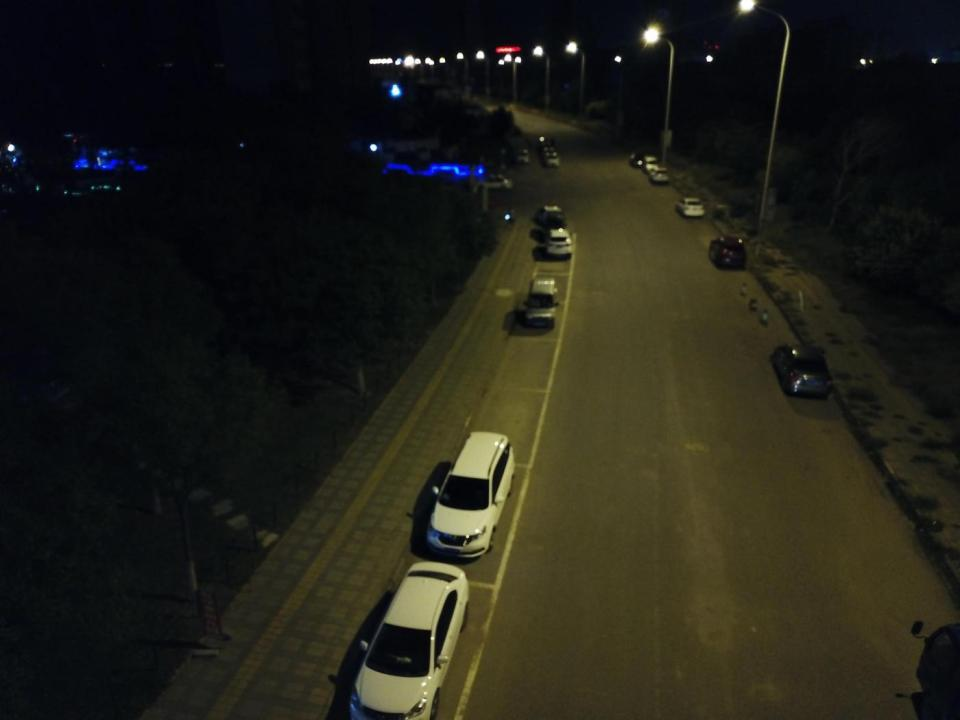car: (338, 552, 469, 720), (422, 428, 518, 561), (769, 340, 831, 401), (710, 232, 748, 272), (543, 222, 574, 256), (676, 192, 704, 219), (484, 170, 518, 191), (533, 204, 565, 225), (541, 211, 568, 233), (628, 151, 658, 170), (537, 135, 559, 156), (640, 154, 659, 174), (649, 166, 669, 182), (544, 151, 561, 168), (514, 149, 531, 163), (541, 143, 555, 160)
van: (522, 276, 562, 328)
